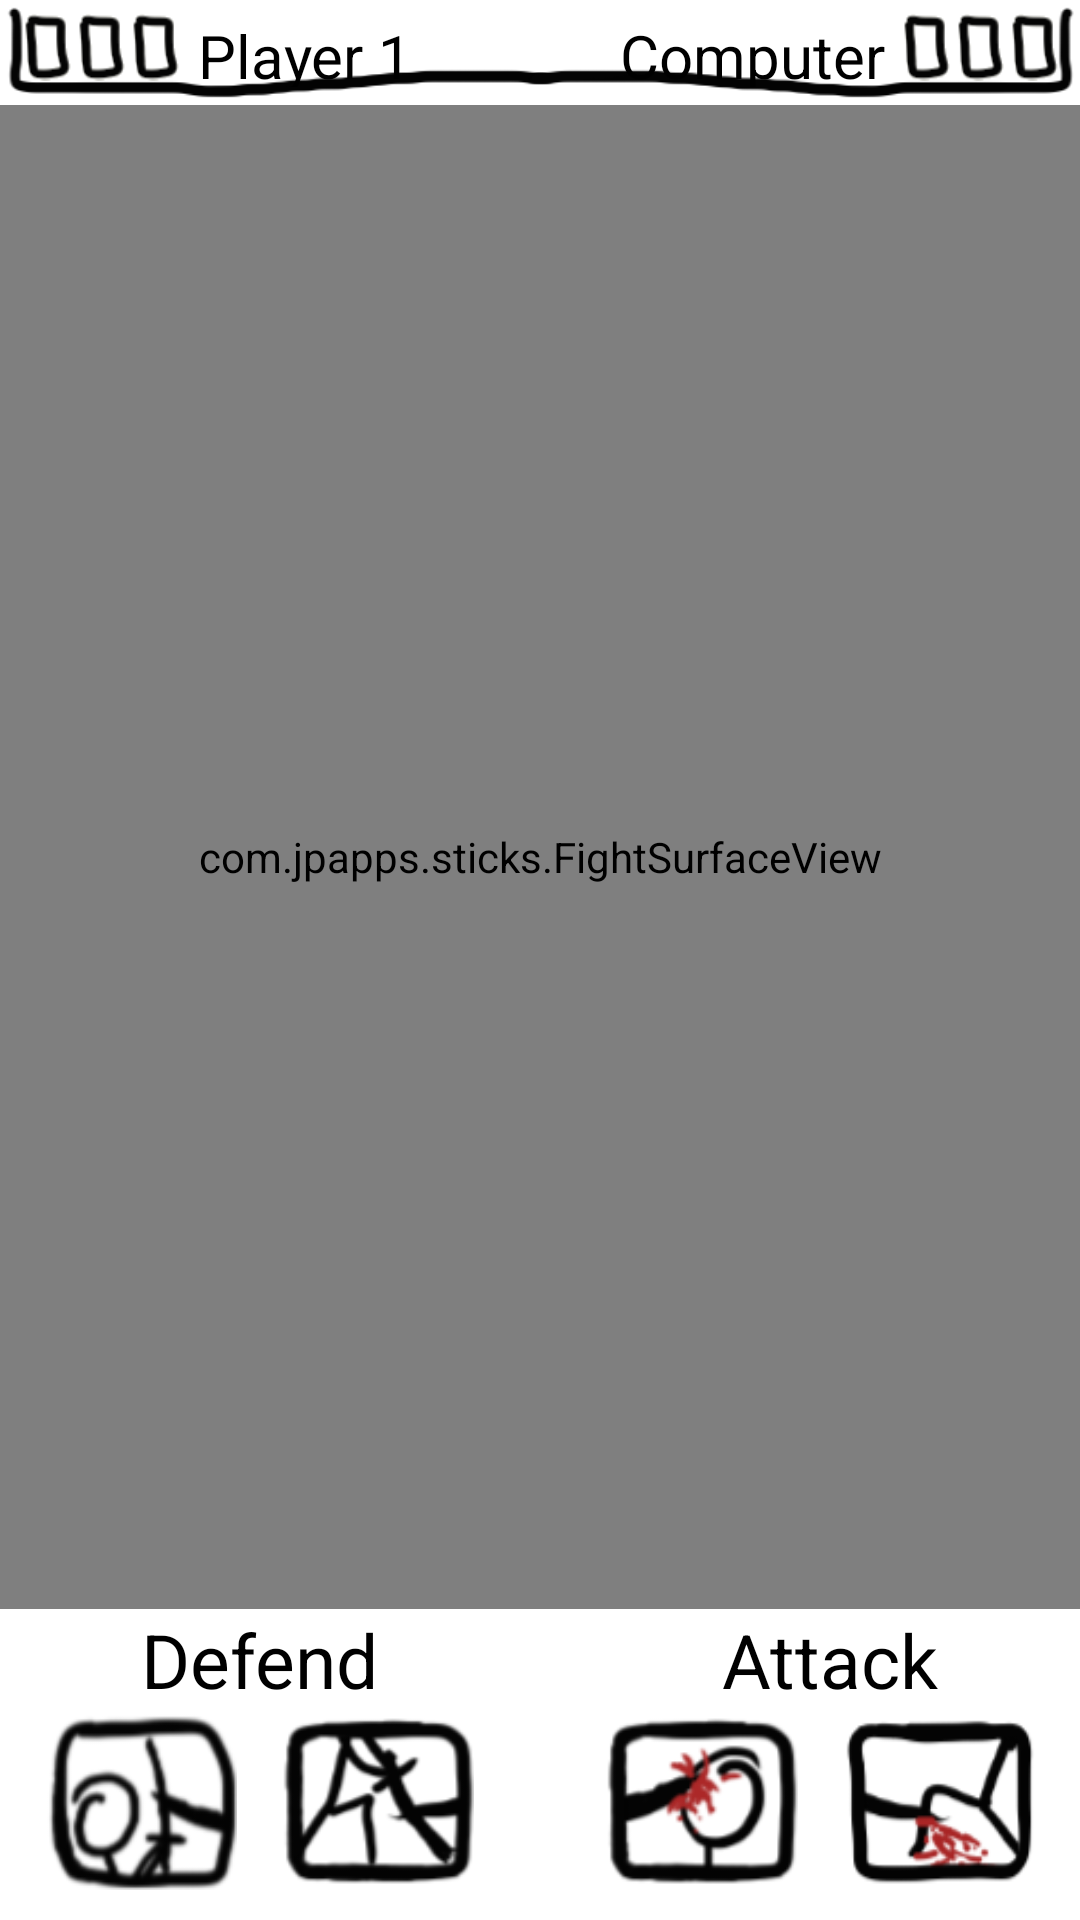

Point at icon controls on the screen. Image size 1080 x 1920, points as point (x, y).
ui healthbar unit: point (48, 43), point (1035, 43), point (101, 48), point (155, 48), point (926, 48), point (980, 48)
